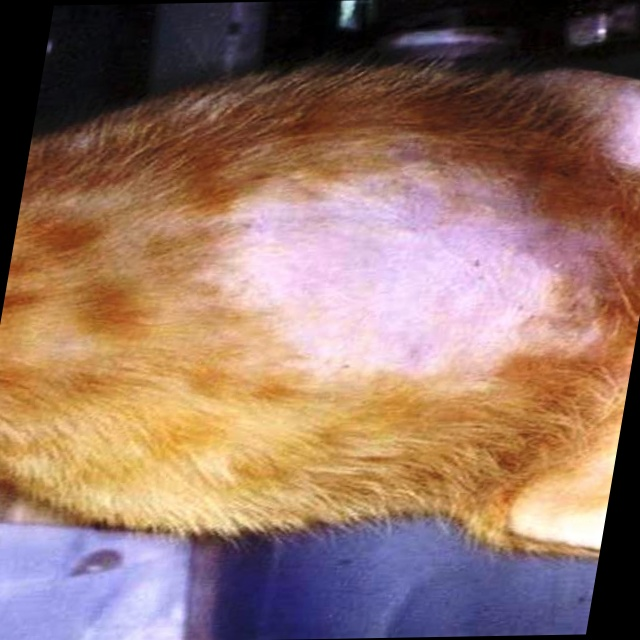hairloss: (198, 202, 576, 377)
